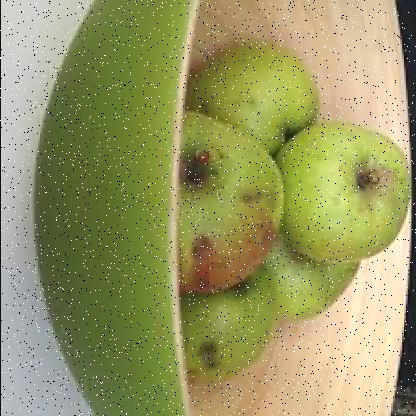apple: (282, 108, 406, 272)
damaged_apple: (170, 119, 289, 297), (184, 280, 275, 384)
